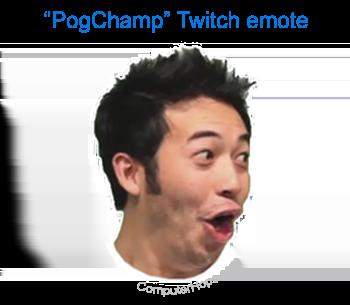poggers: (98, 52, 251, 271)
